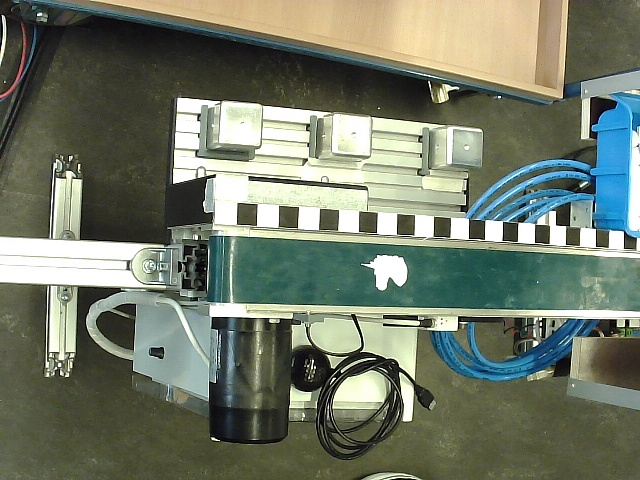unicorn: (360, 253, 409, 291)
